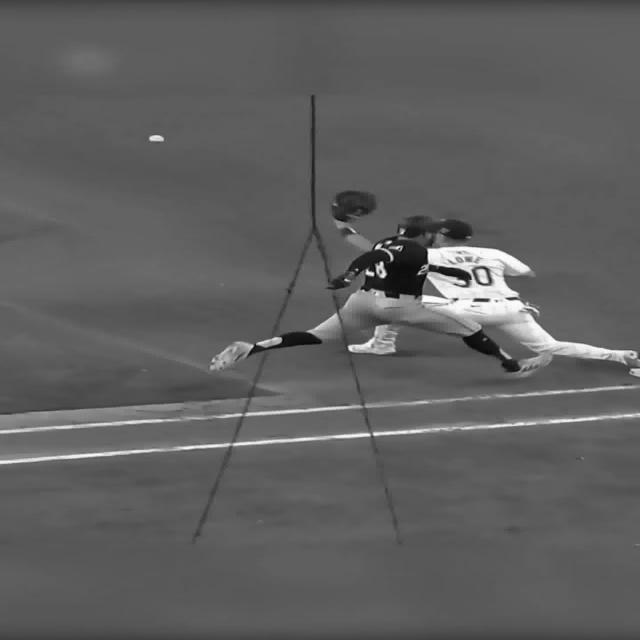base: (629, 368, 640, 378)
baseball: (149, 135, 164, 142)
baseball_glove: (331, 190, 376, 221)
shoe: (209, 341, 253, 371), (505, 352, 553, 379), (349, 339, 396, 355), (607, 350, 640, 368)
